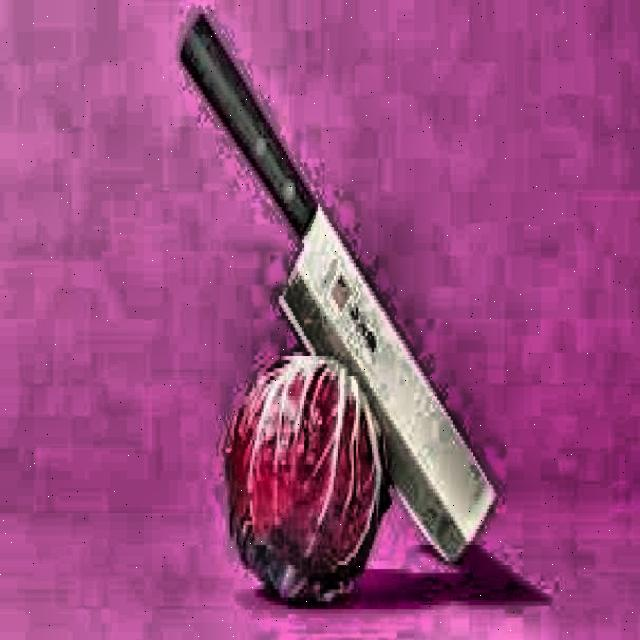knife: (180, 4, 501, 572)
